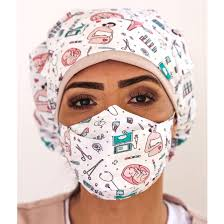with_mask_and_cap: (47, 13, 186, 202)
